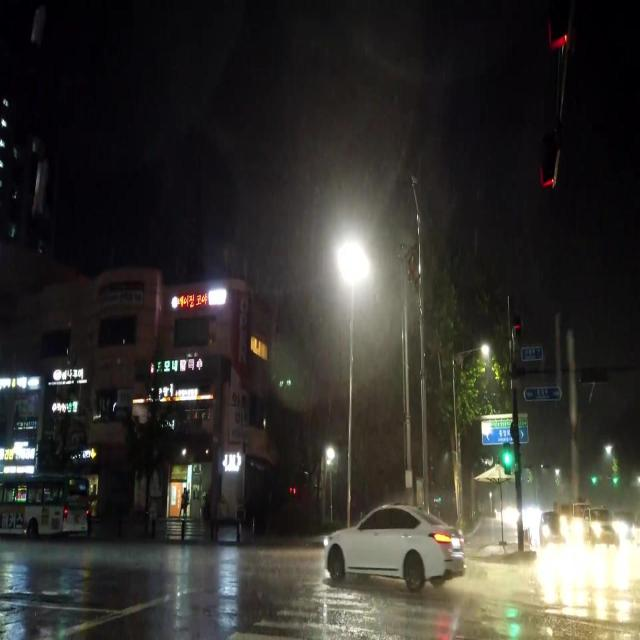Car: (323, 503, 462, 593), (579, 504, 617, 547), (536, 509, 565, 543)
